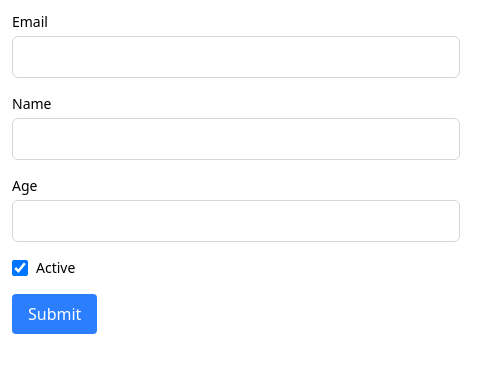
Test: Integration Tests › Form Validation Flow: Form Input → Zod Validation → Error Display › should handle API validation errors
Type "taken@example.com" into the field labelled "Email".
click(236, 57); type("taken@example.com")  # box [12,36,460,78]
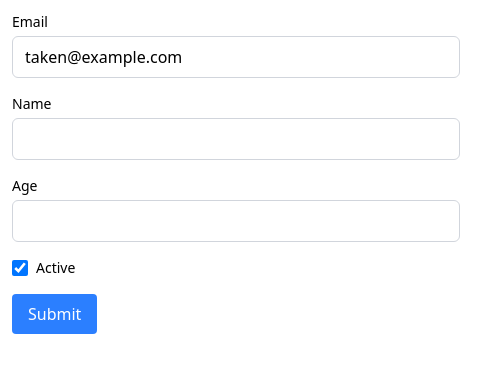
Type "Test User" into the field labelled "Name".
click(236, 139); type("Test User")  # box [12,118,460,160]
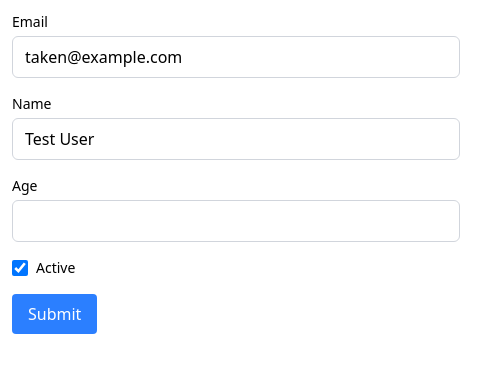
Type "25" into the number field labelled "Age".
click(236, 221); type("25")  # box [12,200,460,242]
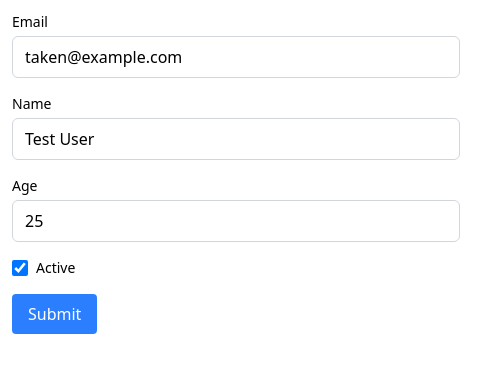
Click the button "Submit".
click(55, 314)  # box [12,294,97,334]
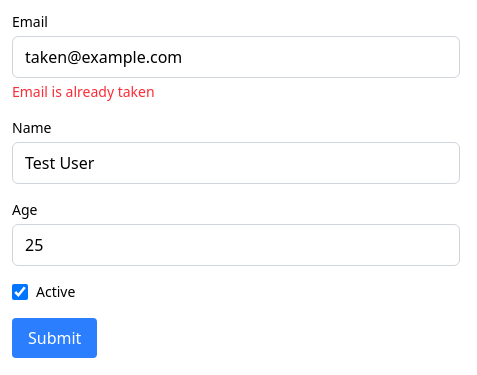
Now the text "Email is already taken" is shown, box [12,82,155,101]
